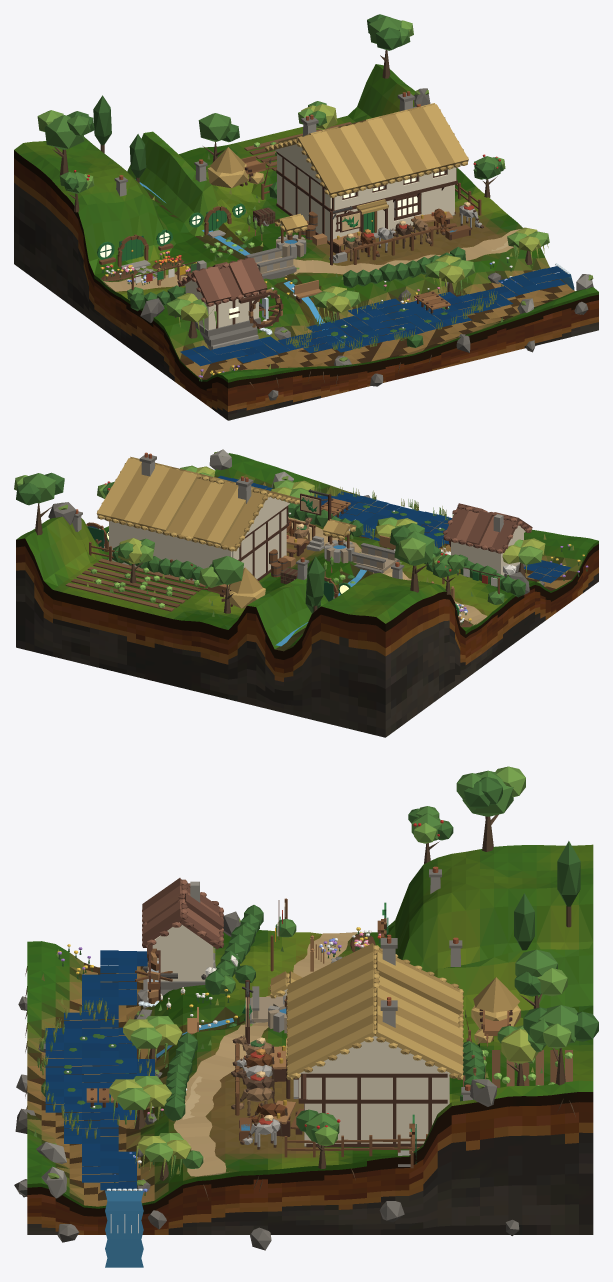
The model's file is green-dragon.glb.
3 renders of one model, top to bottom at view 1: azimuth 30°, elevation 25°; view 2: azimuth 150°, elevation 25°; view 3: azimuth 270°, elevation 25°, orthographic. The views are drawn at different scales.
Parts seen in each view (by area): view 1: bywater, terrain, plinth, banks, water; view 2: bywater, plinth, terrain, banks, water; view 3: bywater, plinth, terrain, banks, water.
Part boxes in pixels (x1=…): bywater: x1=37, y1=14, x2=593, y2=400; terrain: x1=95, y1=115, x2=598, y2=379; plinth: x1=14, y1=150, x2=598, y2=420; banks: x1=14, y1=64, x2=415, y2=274; water: x1=180, y1=266, x2=570, y2=366; bywater: x1=14, y1=449, x2=588, y2=646; plinth: x1=16, y1=538, x2=598, y2=737; terrain: x1=53, y1=453, x2=598, y2=650; banks: x1=16, y1=516, x2=446, y2=651; water: x1=218, y1=475, x2=570, y2=583; bywater: x1=14, y1=766, x2=598, y2=1267; plinth: x1=27, y1=1092, x2=593, y2=1234; terrain: x1=27, y1=930, x2=593, y2=1206; banks: x1=384, y1=844, x2=593, y2=1156; water: x1=45, y1=950, x2=154, y2=1190.
Size of the model in its own units: 15.29 by 7.16 by 14.48.
